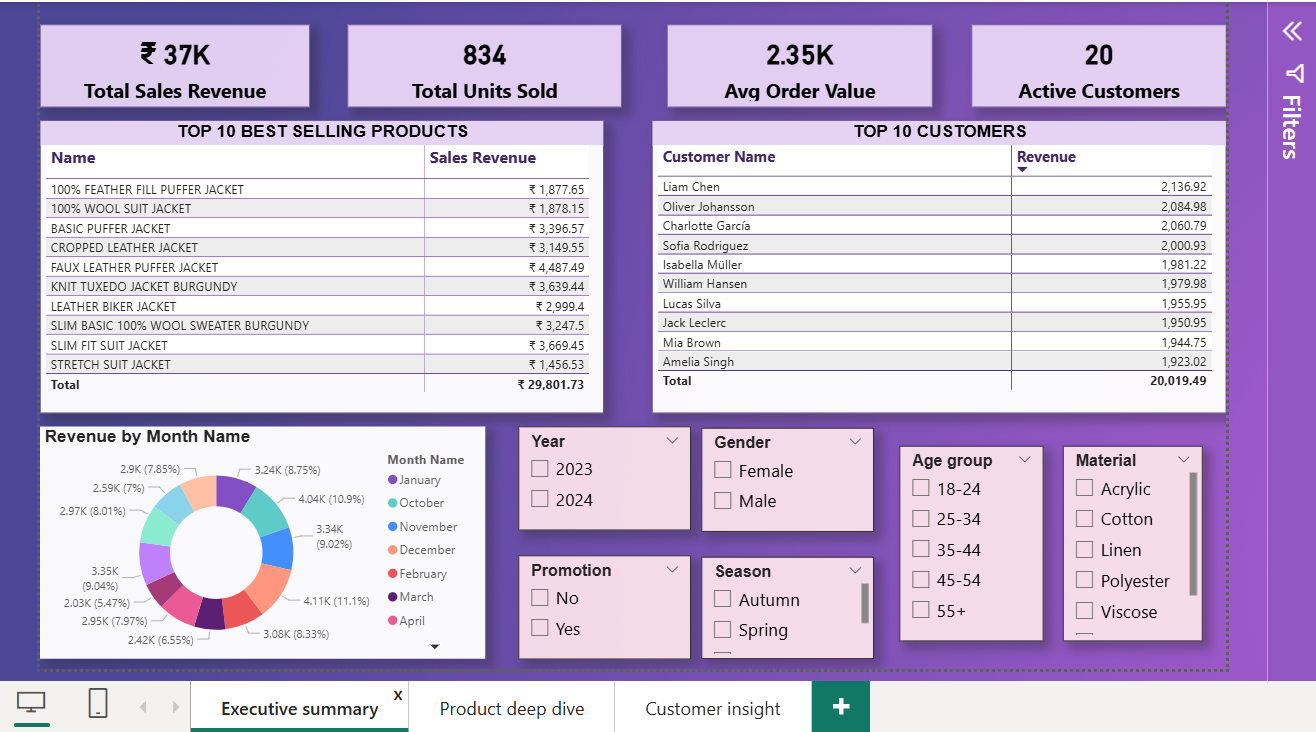

The dashboard page shown, as its layout file describes it:
{"tool":"powerbi","page":{"name":"Executive summary","canvas":[1280,720],"ordinal":0},"visuals":[{"type":"card","fields":{"Values":["sales.Sales Revenue"]},"box":[0,24.3,291.5,89.1],"z":0},{"type":"card","fields":{"Values":["customers.Active Customers"]},"box":[1005.5,24.3,275.3,89.1],"z":1000},{"type":"card","fields":{"Values":["sales.Avg Order Value"]},"box":[676.8,24.3,286.6,89.1],"z":2000},{"type":"card","fields":{"Values":["sales.quantity"]},"box":[331.9,24.3,296.3,89.1],"z":3000},{"type":"tableEx","title":"TOP 10 BEST SELLING PRODUCTS","fields":{"Values":["products.name","sales.Sales Revenue"]},"box":[0,127.9,608.8,315.7],"z":4000},{"type":"tableEx","title":"TOP 10 CUSTOMERS","fields":{"Values":["customers.customer_name","sales.revenue"]},"box":[660.6,127.9,620.2,315.7],"z":5000},{"type":"donutChart","fields":{"Category":["sales.Month Name"],"Y":["sales.revenue"]},"box":[0,458.2,480.9,251],"z":6000},{"type":"slicer","fields":{"Values":["sales.Year"]},"box":[516.5,458.2,186.2,111.7],"z":7000},{"type":"slicer","fields":{"Values":["customers.gender"]},"box":[714.1,459.9,186.2,111.7],"z":8000},{"type":"slicer","fields":{"Values":["products.promotion"]},"box":[516.5,597.5,186.2,111.7],"z":9000},{"type":"slicer","fields":{"Values":["customers.age_group"]},"box":[927.8,479.3,155.4,210.5],"z":10000},{"type":"slicer","fields":{"Values":["products.season"]},"box":[714.1,599.1,186.2,110.1],"z":11000},{"type":"slicer","fields":{"Values":["products.material"]},"box":[1104.3,479.3,150.6,210.5],"z":12000}]}

Visuals, with their boxes on the page's 1280x720 design canvas (x1, y1, x2, y2). These are canvas units, not pixel positions in the 1316x732 screenshot, which may show the page scaled, cropped or inside an application window:
card - sales.Sales Revenue: bbox=(0, 24, 292, 113)
card - customers.Active Customers: bbox=(1006, 24, 1281, 113)
card - sales.Avg Order Value: bbox=(677, 24, 963, 113)
card - sales.quantity: bbox=(332, 24, 628, 113)
"TOP 10 BEST SELLING PRODUCTS" tableEx: bbox=(0, 128, 609, 444)
"TOP 10 CUSTOMERS" tableEx: bbox=(661, 128, 1281, 444)
donutChart - sales.Month Name x sales.revenue: bbox=(0, 458, 481, 709)
slicer - sales.Year: bbox=(516, 458, 703, 570)
slicer - customers.gender: bbox=(714, 460, 900, 572)
slicer - products.promotion: bbox=(516, 598, 703, 709)
slicer - customers.age_group: bbox=(928, 479, 1083, 690)
slicer - products.season: bbox=(714, 599, 900, 709)
slicer - products.material: bbox=(1104, 479, 1255, 690)
